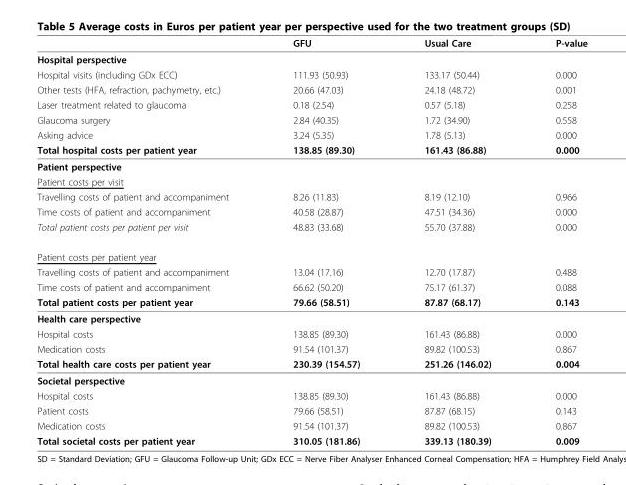table: (36, 36, 586, 446)
table column: (36, 36, 260, 446), (260, 36, 391, 446), (391, 36, 522, 446), (522, 36, 586, 446)
table column header: (36, 36, 586, 50)
table projected row header: (36, 241, 586, 264), (36, 50, 586, 66), (36, 157, 586, 173), (36, 310, 586, 326), (36, 371, 586, 387), (36, 173, 586, 188)
table row: (36, 241, 586, 264), (36, 219, 586, 241), (36, 50, 586, 66), (36, 96, 586, 112), (36, 157, 586, 173), (36, 203, 586, 219), (36, 294, 586, 310), (36, 310, 586, 326), (36, 371, 586, 387), (36, 66, 586, 81), (36, 81, 586, 96), (36, 112, 586, 127), (36, 127, 586, 142), (36, 142, 586, 157), (36, 173, 586, 188), (36, 188, 586, 203), (36, 264, 586, 279), (36, 279, 586, 294), (36, 326, 586, 341), (36, 341, 586, 356), (36, 356, 586, 371), (36, 387, 586, 402), (36, 402, 586, 417), (36, 417, 586, 432), (36, 36, 586, 50), (36, 432, 586, 446)
